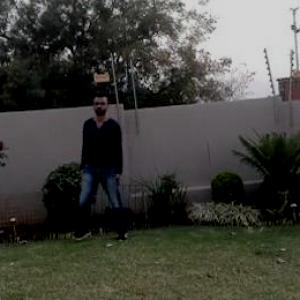follow: (82, 90, 135, 254)
